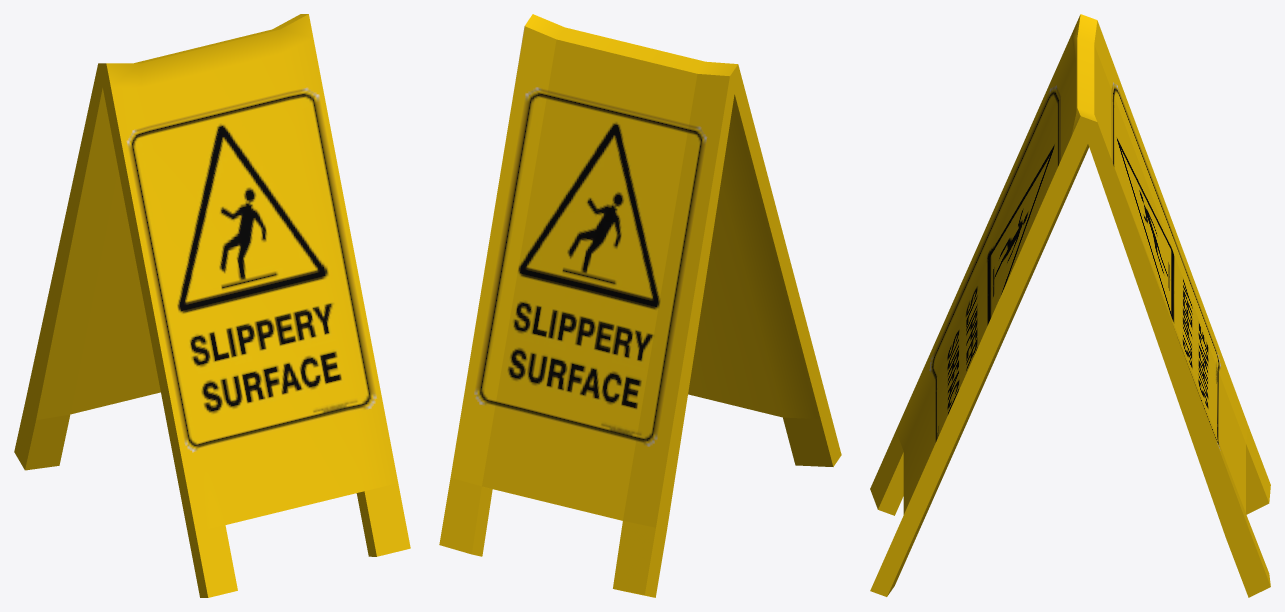
Rendered from slipperysign.fbx.
The picture shows the model from 3 angles, left to right: view 1: azimuth 30°, elevation 25°; view 2: azimuth 150°, elevation 25°; view 3: azimuth 270°, elevation 25°; orthographic projection. The views are drawn at different scales.
Visible parts, largest first — view 1: slipeerySign; view 2: slipeerySign; view 3: slipeerySign.
Part boxes in pixels (x1,y1,x2,y2): slipeerySign: (14,14,410,597); slipeerySign: (439,14,841,597); slipeerySign: (870,14,1270,597).
Bounding box in the file's own units: 5.95 × 13.18 × 9.87.
